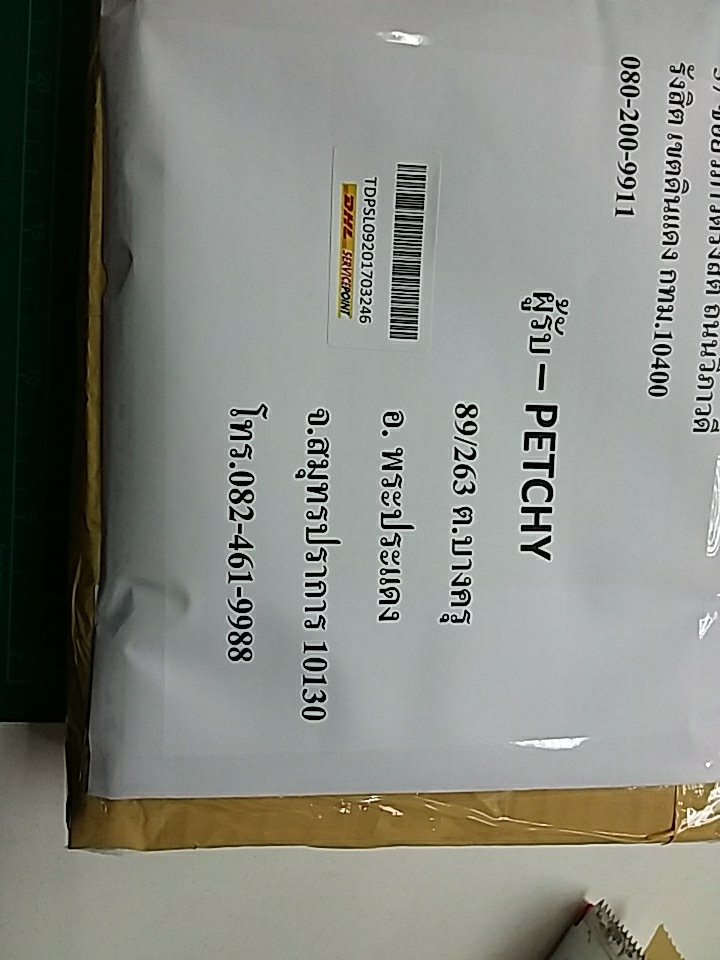ba: (318, 137, 439, 350)
txt: (181, 287, 582, 750)
